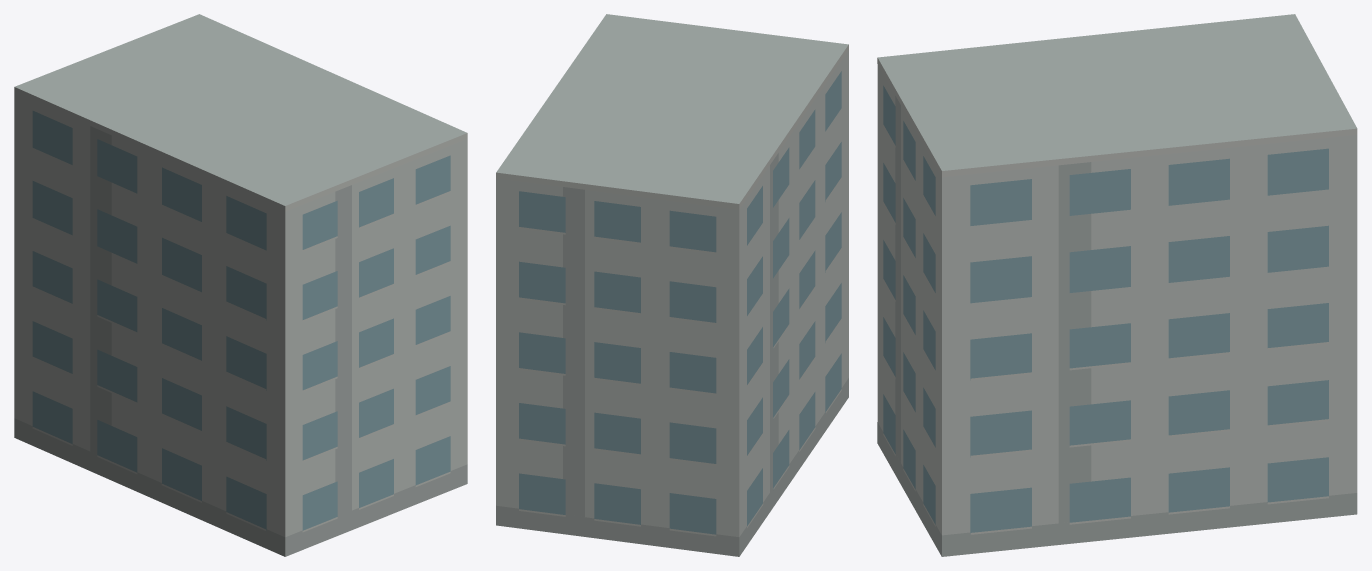
The model's file is survey-upis-32803991.glb.
3 views of the same model, side by side, from view 1: azimuth 30°, elevation 25°; view 2: azimuth 150°, elevation 25°; view 3: azimuth 270°, elevation 25° (orthographic). The views are drawn at different scales.
Visible parts, largest first — view 1: survey-upis-32803991.tmp; view 2: survey-upis-32803991.tmp; view 3: survey-upis-32803991.tmp.
Boxes of the visible parts, x1=… form: survey-upis-32803991.tmp: x1=14, y1=14, x2=467, y2=556; survey-upis-32803991.tmp: x1=496, y1=14, x2=848, y2=556; survey-upis-32803991.tmp: x1=877, y1=14, x2=1357, y2=556.
Bounding box in the file's own units: 13.19 × 15.1 × 17.03.
